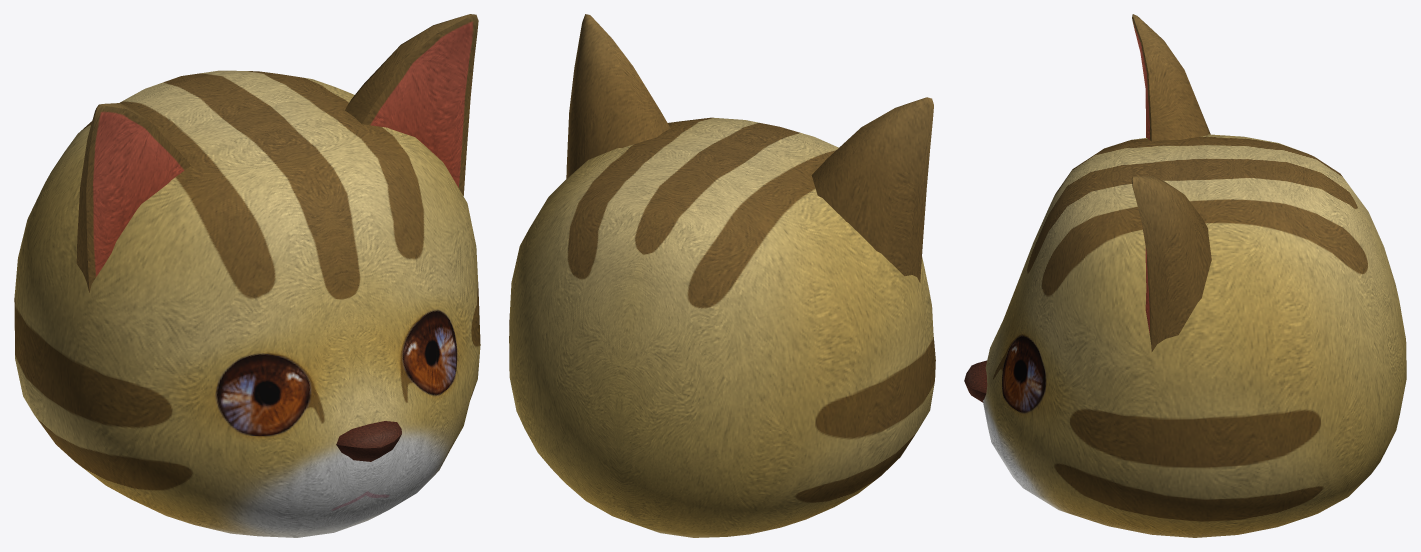
The model's file is CRT0110005.FBX.
3 views of the same model, side by side, from view 1: azimuth 30°, elevation 25°; view 2: azimuth 150°, elevation 25°; view 3: azimuth 270°, elevation 25° (orthographic). The views are drawn at different scales.
Visible parts, largest first — view 1: smCRT0110005; view 2: smCRT0110005; view 3: smCRT0110005.
Boxes of the visible parts, bbox=[...] form: smCRT0110005: bbox=[14, 14, 480, 537]; smCRT0110005: bbox=[509, 14, 935, 537]; smCRT0110005: bbox=[964, 14, 1406, 537].
Bounding box in the file's own units: 0.0538 × 0.0599 × 0.0574.
Materials: 1 (1 with a texture image).
